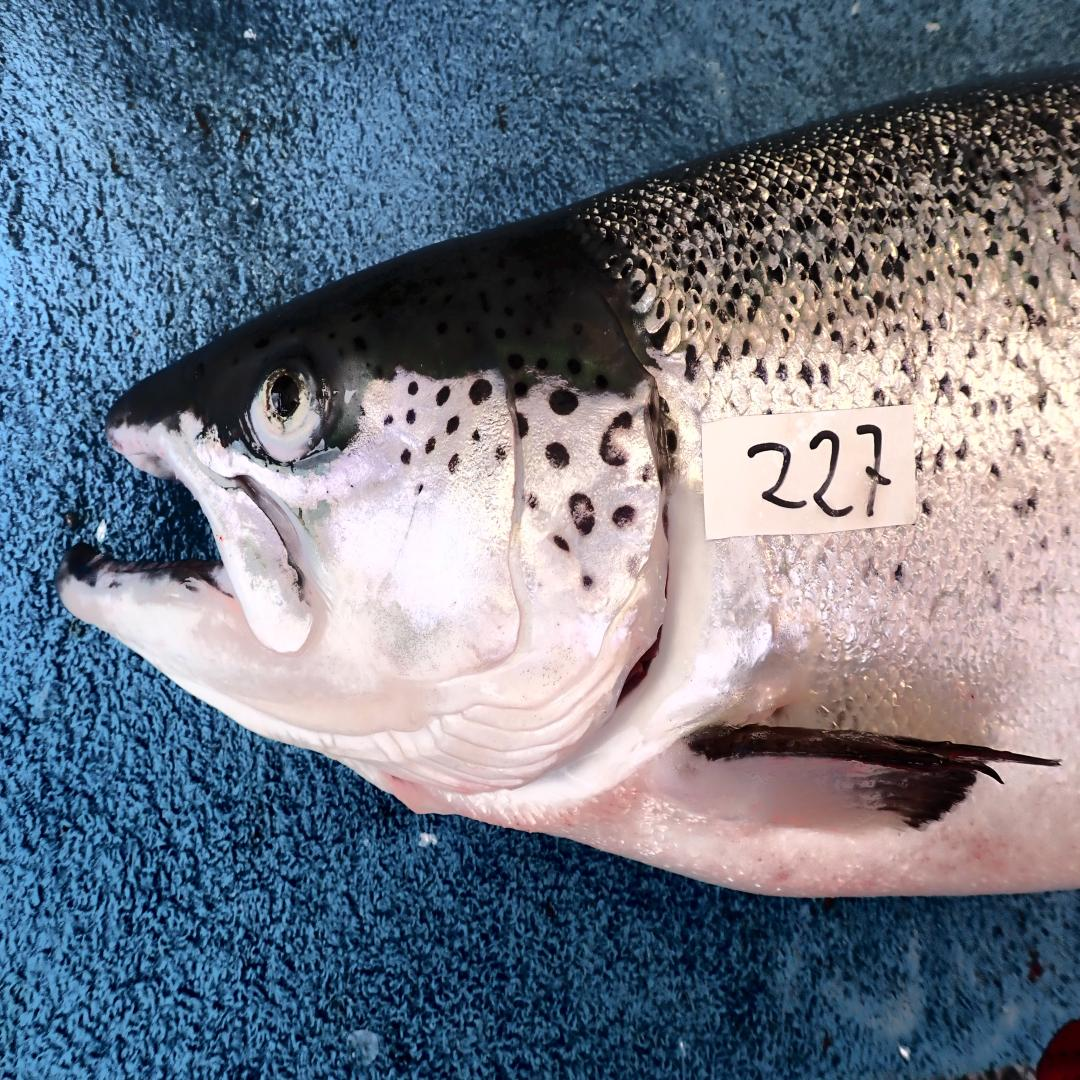spot: (599, 411, 633, 467), (570, 492, 595, 534), (548, 388, 578, 416), (546, 442, 570, 467), (468, 380, 491, 405), (612, 506, 635, 526), (517, 413, 529, 439), (553, 534, 570, 551), (641, 463, 653, 484), (447, 453, 460, 472), (437, 385, 449, 405), (424, 436, 437, 453), (447, 416, 460, 433), (514, 381, 528, 396), (401, 447, 411, 464), (383, 414, 395, 428), (407, 380, 418, 394), (527, 495, 538, 509), (407, 408, 416, 425), (496, 447, 506, 461), (472, 428, 480, 444), (415, 483, 424, 497), (582, 577, 593, 588)
